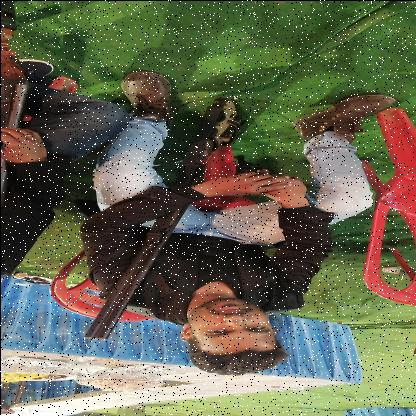rifle: (79, 95, 249, 341)
